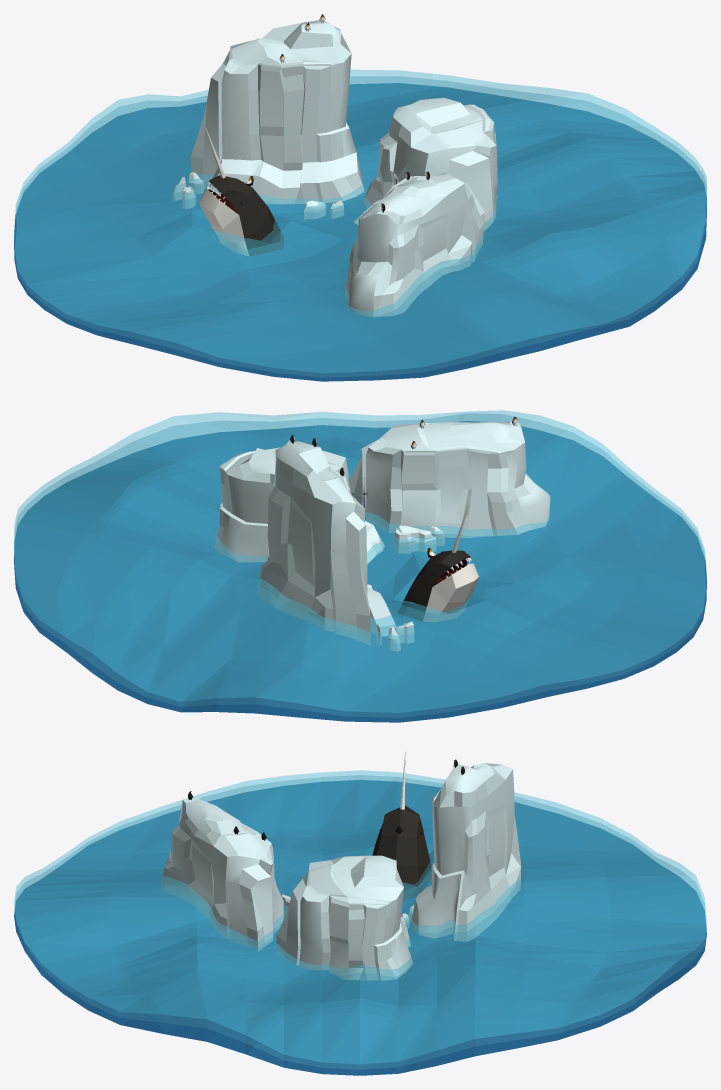
Rendered from ice_environment.glb.
3 renders of one model, top to bottom at view 1: azimuth 30°, elevation 25°; view 2: azimuth 150°, elevation 25°; view 3: azimuth 270°, elevation 25°, orthographic. The views are drawn at different scales.
Parts seen in each view (by area): view 1: Sea_LayerTop, Sea_LayerMid, Sea_LayerLow, IcebergL, IcebergR, IcebergMain, Narwhal_Body; view 2: Sea_LayerTop, Sea_LayerMid, Sea_LayerLow, IcebergR, IcebergL, IcebergMain, Narwhal_Body, IceChunk01; view 3: Sea_LayerTop, Sea_LayerLow, Sea_LayerMid, IcebergL, IcebergMain, IcebergR, Narwhal_Body.
Boxes of the visible parts, <box> form: Sea_LayerTop: <box>15,70,706,372</box>; Sea_LayerMid: <box>14,76,706,377</box>; Sea_LayerLow: <box>14,83,706,381</box>; IcebergL: <box>190,20,364,204</box>; IcebergR: <box>345,172,483,317</box>; IcebergMain: <box>353,97,497,231</box>; Narwhal_Body: <box>199,175,283,255</box>; Sea_LayerTop: <box>14,410,705,712</box>; Sea_LayerMid: <box>14,413,706,717</box>; Sea_LayerLow: <box>14,421,706,722</box>; IcebergR: <box>349,421,550,537</box>; IcebergL: <box>257,440,396,645</box>; IcebergMain: <box>214,447,384,563</box>; Narwhal_Body: <box>398,550,478,621</box>; IceChunk01: <box>393,525,436,553</box>; Sea_LayerTop: <box>14,770,706,1064</box>; Sea_LayerLow: <box>14,780,706,1075</box>; Sea_LayerMid: <box>14,775,706,1069</box>; IcebergL: <box>411,763,520,941</box>; IcebergMain: <box>276,855,413,980</box>; IcebergR: <box>161,797,283,951</box>; Narwhal_Body: <box>372,805,431,900</box>.
Bounding box in the file's own units: 6811 × 1927 × 6702.
